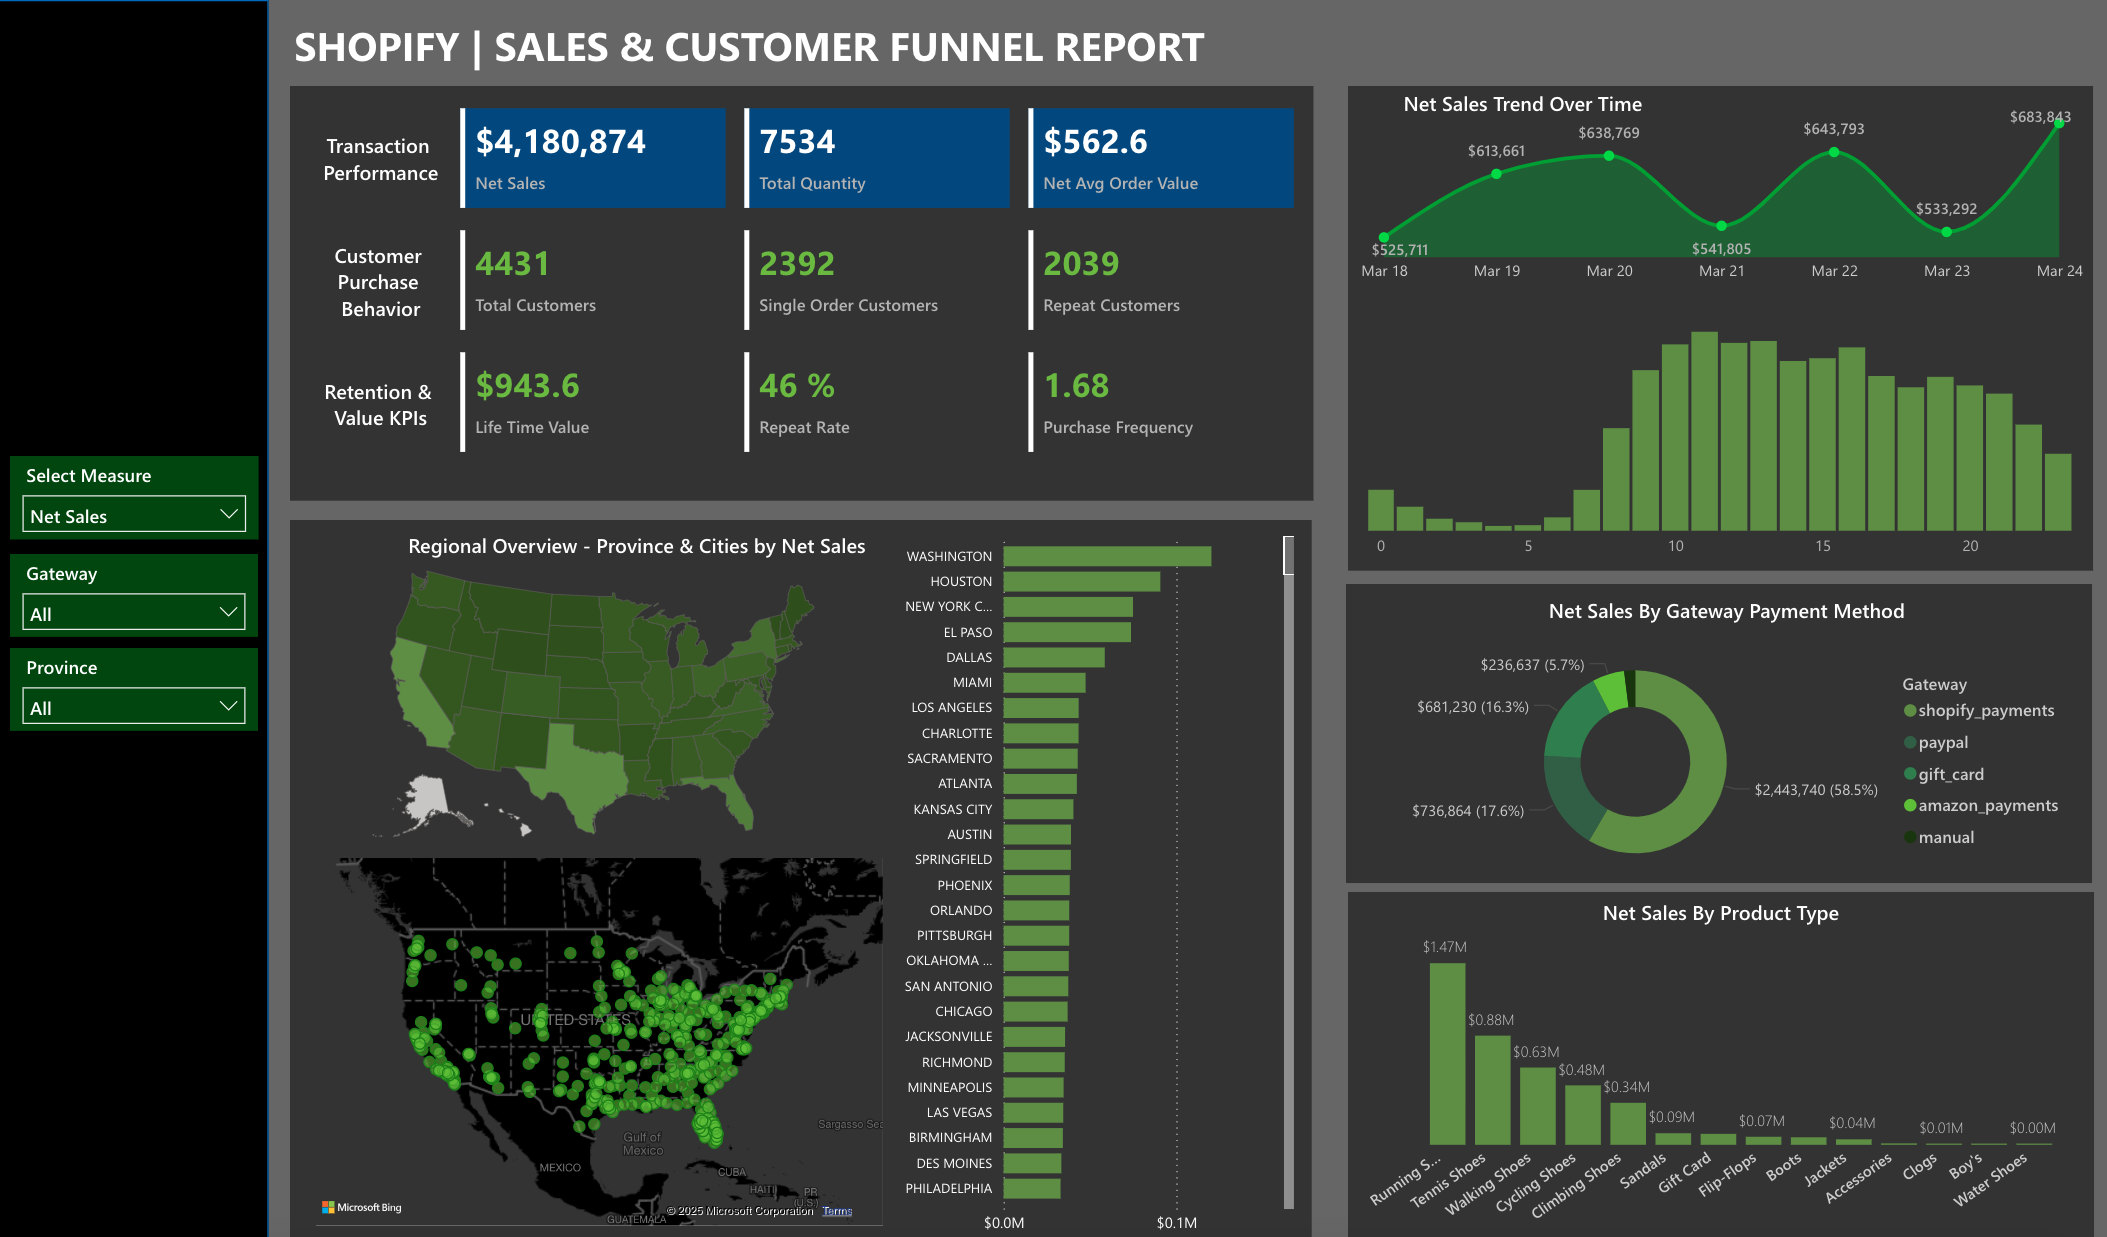

Layout of this report page (visuals, bound fields, positions):
{"tool":"powerbi","page":{"name":"Shopify Analysis","canvas":[1700,1000],"ordinal":0},"visuals":[{"type":"shape","box":[0,0,218.8,1000],"z":0},{"type":"textbox","box":[235.1,9.5,873.6,59.7],"z":1000},{"type":"shape","box":[235.4,69.1,821.4,332.9],"z":2000},{"type":"cardVisual","fields":{"Data":["shopify_sales.Net Sales","shopify_sales.Total Quantity","shopify_sales.Net Avg Order Value"]},"box":[366.8,82,680,90],"z":3000},{"type":"card","fields":{"Values":["shopify_sales.Transaction Perf"]},"box":[235.4,82,145.7,90],"z":4000},{"type":"cardVisual","fields":{"Data":["shopify_sales.Total Customers","shopify_sales.Single Order Customers","shopify_sales.Repeat Customers"]},"box":[366.8,179.8,680,90],"z":5000},{"type":"card","fields":{"Values":["shopify_sales.Customer Purchase Behavior"]},"box":[235.4,156.2,145.7,134.3],"z":6000},{"type":"card","fields":{"Values":["shopify_sales.Retention & Value KPIs"]},"box":[235.4,256.2,145.7,134.3],"z":7000},{"type":"cardVisual","fields":{"Data":["shopify_sales.Life Time Value","shopify_sales.Repeat Rate","shopify_sales.Purchase Frequency"]},"box":[366.8,277.7,680,90],"z":8000},{"type":"shape","box":[236.2,417.5,820,582.5],"z":9000},{"type":"shapeMap","fields":{"Value":["shopify_sales.Net Sales"],"Category":["shopify_sales.Billing Address Province"]},"box":[252,442,455,247],"z":10000},{"type":"slicer","fields":{"Values":["Select Measure.Select Measure"]},"box":[10.5,365.2,199.3,66.8],"z":11000},{"type":"map","fields":{"Category":["shopify_sales.Location"]},"box":[257.5,688.8,455,295],"z":12000},{"type":"clusteredBarChart","fields":{"Y":["shopify_sales.Net Sales"],"Category":["shopify_sales.CITY"]},"box":[713,418,334,582],"z":13000},{"type":"card","fields":{"Values":["shopify_sales.Map Title"]},"box":[235,417.5,560,45],"z":14000},{"type":"shape","box":[1084.5,69.1,598.2,389.1],"z":15000},{"type":"areaChart","title":"Net Sales Trend Over Time","fields":{"Y":["shopify_sales.Net Sales"],"Category":["shopify_sales.Invoice Date.Variation.Date Hierarchy.Year","shopify_sales.Invoice Date.Variation.Date Hierarchy.Quarter","shopify_sales.Invoice Date.Variation.Date Hierarchy.Month","shopify_sales.Invoice Date.Variation.Date Hierarchy.Day"]},"box":[1089.1,75.5,590,160],"z":16000},{"type":"clusteredColumnChart","fields":{"Y":["shopify_sales.Net Sales"],"Category":["shopify_sales.Hour"]},"box":[1096.4,235.5,597.3,220],"z":17000},{"type":"shape","box":[1085,716.2,598.8,283.8],"z":18000},{"type":"shape","box":[1083.8,468.8,598.8,240],"z":19000},{"type":"donutChart","fields":{"Y":["shopify_sales.Net Sales"],"Category":["shopify_sales.Gateway"]},"box":[1096.2,511.2,573.8,198.8],"z":20000},{"type":"card","fields":{"Values":["shopify_sales.Chart Title"]},"box":[945,70,560,28.8],"z":21000},{"type":"card","fields":{"Values":["shopify_sales.Donut Title"]},"box":[1108.8,471.2,560,40],"z":22000},{"type":"clusteredColumnChart","fields":{"Y":["shopify_sales.Net Sales"],"Category":["shopify_sales.Product Type"]},"box":[1096.2,733.8,573.8,266.2],"z":23000},{"type":"card","fields":{"Values":["shopify_sales.Bar Chart Title"]},"box":[1103.8,718.8,560,31.2],"z":24000},{"type":"slicer","fields":{"Values":["shopify_sales.Gateway"]},"box":[11,444,198.8,66.2],"z":25000},{"type":"slicer","fields":{"Values":["shopify_sales.Billing Address Province"]},"box":[11,520.3,198.8,66.2],"z":26000},{"type":"textbox","box":[10,946.2,98.8,53.8],"z":27000}]}

Visuals, with their boxes in screenshot pixels (x1, y1, x2, y2), scaled from the page's 1700x1000 canvas onto the 2107x1237 screenshot:
shape: 0/0/271/1236
textbox: 291/12/1374/86
shape: 292/85/1310/497
cardVisual - shopify_sales.Net Sales x shopify_sales.Total Quantity: 455/101/1297/213
card - shopify_sales.Transaction Perf: 292/101/472/213
cardVisual - shopify_sales.Total Customers x shopify_sales.Single Order Customers: 455/222/1297/334
card - shopify_sales.Customer Purchase Behavior: 292/193/472/359
card - shopify_sales.Retention & Value KPIs: 292/317/472/483
cardVisual - shopify_sales.Life Time Value x shopify_sales.Repeat Rate: 455/344/1297/455
shape: 293/516/1309/1236
shapeMap - shopify_sales.Net Sales x shopify_sales.Billing Address Province: 312/547/876/852
slicer - Select Measure.Select Measure: 13/452/260/534
map - shopify_sales.Location: 319/852/883/1217
clusteredBarChart - shopify_sales.Net Sales x shopify_sales.CITY: 884/517/1298/1236
card - shopify_sales.Map Title: 291/516/985/572
shape: 1344/85/2086/567
"Net Sales Trend Over Time" areaChart: 1350/93/2081/291
clusteredColumnChart - shopify_sales.Net Sales x shopify_sales.Hour: 1359/291/2099/563
shape: 1345/886/2087/1236
shape: 1343/580/2085/877
donutChart - shopify_sales.Net Sales x shopify_sales.Gateway: 1359/632/2070/878
card - shopify_sales.Chart Title: 1171/87/1865/122
card - shopify_sales.Donut Title: 1374/583/2068/632
clusteredColumnChart - shopify_sales.Net Sales x shopify_sales.Product Type: 1359/908/2070/1236
card - shopify_sales.Bar Chart Title: 1368/889/2062/928
slicer - shopify_sales.Gateway: 14/549/260/631
slicer - shopify_sales.Billing Address Province: 14/644/260/726
textbox: 12/1170/135/1236
